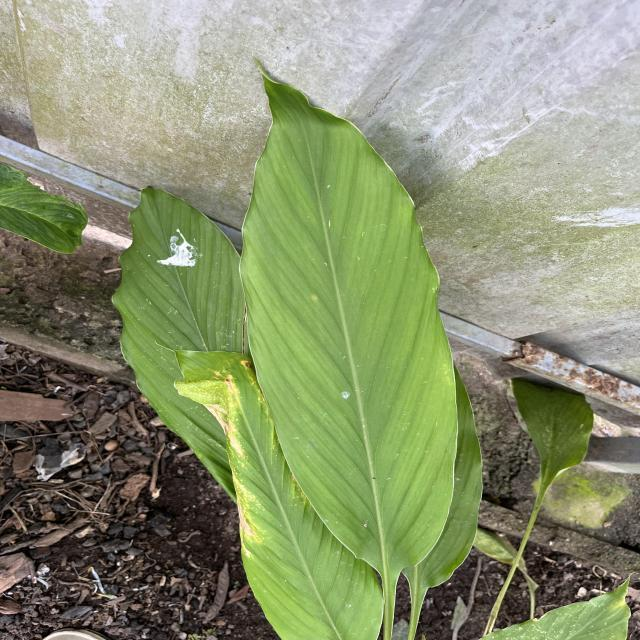Curcuma longa: (232, 50, 464, 583), (108, 179, 244, 506)
